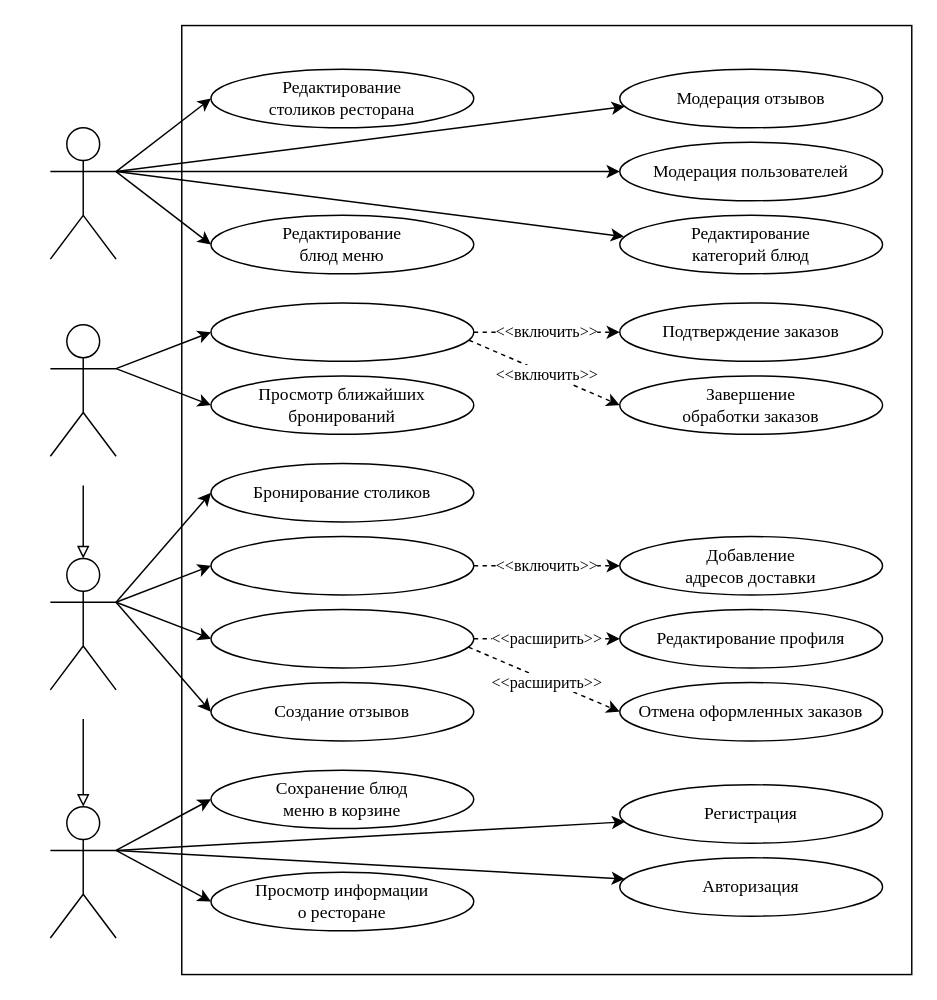
The diagram is 937 pixels wide and 1000 high, and some of its shapes have lost their labels. The shapes that lost their labels are listed below. From the top down, each one's box as (x1, y1, x2, y2) in pixels, then its label:
(49, 126, 116, 259): Администратор
(210, 301, 474, 361): Управление статусом заказов
(49, 323, 116, 456): Менеджер
(210, 535, 474, 595): Оформление заказов
(49, 557, 116, 690): Клиент
(210, 608, 474, 668): Управление личным кабинетом
(49, 805, 116, 938): Гость
